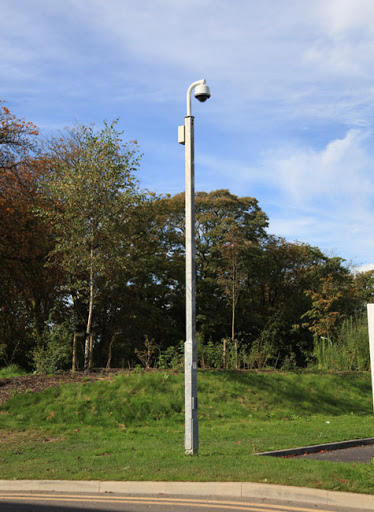pole: (160, 69, 216, 458)
